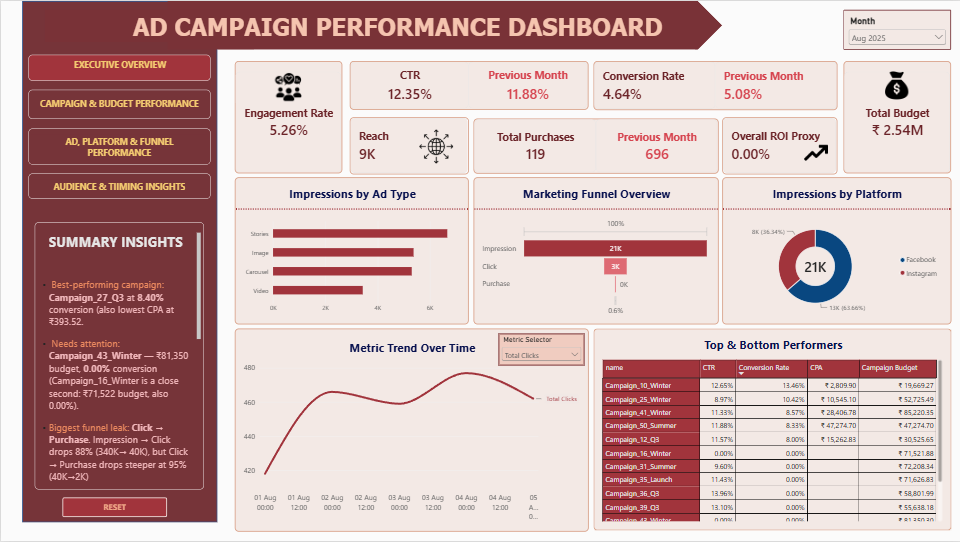

The page's visual inventory and layout, read from the dashboard file:
{"tool":"powerbi","page":{"name":"Executive Overview","canvas":[1920,1080],"ordinal":0},"visuals":[{"type":"funnel","title":"Marketing Funnel Overview","fields":{"Category":["AdEvents.event_type"],"Y":["Measures Table.Total Events"]},"box":[944,352,490,294],"z":0},{"type":"cardVisual","fields":{"Data":["Measures Table.Total Budget All Campaigns"]},"box":[1685,120,215,225],"z":1000},{"type":"cardVisual","fields":{"Data":["Measures Table.Reach"]},"box":[698,232,238,114],"z":2000},{"type":"cardVisual","fields":{"Data":["Measures Table.CTR","Measures Table.CTR PM"]},"box":[697.5,120,477.5,97.5],"z":3000},{"type":"cardVisual","fields":{"Data":["Measures Table.Conversion Rate","Measures Table.Conversion Rate PM"]},"box":[1184,120,488,98],"z":4000},{"type":"cardVisual","fields":{"Data":["Measures Table.Overall ROI Proxy"]},"box":[1442,232,230,114],"z":5000},{"type":"cardVisual","fields":{"Data":["Measures Table.Total Purchases","Measures Table.Total Purchases PM"]},"box":[945,235,490,110],"z":6000},{"type":"cardVisual","fields":{"Data":["Measures Table.Engagement Rate"]},"box":[467.5,120,215,225],"z":7000},{"type":"donutChart","title":"Impressions by Platform","fields":{"Category":["Ads.ad_platform"],"Y":["Measures Table.Total Impressions"]},"box":[1442,352,458,294],"z":8000},{"type":"tableEx","title":"Top & Bottom Performers","fields":{"Values":["Campaigns.name","Measures Table.CTR","Measures Table.Conversion Rate","Measures Table.CPA","Measures Table.Campaign Budget"]},"box":[1184,654,716,404],"z":9000},{"type":"shape","box":[42,0,390,1042.5],"z":10000},{"type":"shape","box":[332,0,1110,97.5],"z":11000},{"type":"image","box":[507.5,140,135,62.5],"z":12000},{"type":"image","box":[802,254,136,72],"z":13000},{"type":"image","box":[1745,140,92.5,57.5],"z":14000},{"type":"image","box":[1590,280,80,47.5],"z":15000},{"type":"textbox","box":[88,18,1236,64],"z":16000},{"type":"textbox","box":[68,442,338,534],"z":17000},{"type":"actionButton","title":"EXECUTIVE OVERVIEW","box":[56,108,364,52],"z":18000},{"type":"actionButton","title":"CAMPAIGN & BUDGET PERFORMANCE","box":[56,178,364,58],"z":19000},{"type":"actionButton","title":"AD, PLATFORM & FUNNEL PERFORMANCE","box":[56,254,364,72],"z":20000},{"type":"actionButton","title":"AUDIENCE & TIIMING INSIGHTS","box":[56,346,364,50],"z":21000},{"type":"lineChart","title":"Metric Trend Over Time","fields":{"Category":["DateTable.Date"],"Y":["Measures Table.Total Shares"]},"box":[468,654,708,406],"z":22000},{"type":"slicer","fields":{"Values":["Metric Selector.Metric Selector"]},"box":[994,664,172,64],"z":23000},{"type":"slicer","fields":{"Values":["DateTable.Month"]},"box":[1685,17.5,215,80],"z":24000},{"type":"clusteredBarChart","title":"Impressions by Ad Type","fields":{"Category":["Ads.ad_type"],"Y":["Measures Table.Total Impressions"]},"box":[468,352,468,294],"z":25000},{"type":"actionButton","box":[122,992,210,40],"z":26000}]}

Visuals, with their boxes in screenshot pixels (x1, y1, x2, y2), scaled from the page's 1920x1080 canvas onto the 960x542 screenshot:
"Marketing Funnel Overview" funnel: box=[472, 177, 717, 324]
cardVisual - Measures Table.Total Budget All Campaigns: box=[842, 60, 950, 173]
cardVisual - Measures Table.Reach: box=[349, 116, 468, 174]
cardVisual - Measures Table.CTR x Measures Table.CTR PM: box=[349, 60, 588, 109]
cardVisual - Measures Table.Conversion Rate x Measures Table.Conversion Rate PM: box=[592, 60, 836, 109]
cardVisual - Measures Table.Overall ROI Proxy: box=[721, 116, 836, 174]
cardVisual - Measures Table.Total Purchases x Measures Table.Total Purchases PM: box=[472, 118, 718, 173]
cardVisual - Measures Table.Engagement Rate: box=[234, 60, 341, 173]
"Impressions by Platform" donutChart: box=[721, 177, 950, 324]
"Top & Bottom Performers" tableEx: box=[592, 328, 950, 531]
shape: box=[21, 0, 216, 523]
shape: box=[166, 0, 721, 49]
image: box=[254, 70, 321, 102]
image: box=[401, 127, 469, 164]
image: box=[872, 70, 919, 99]
image: box=[795, 141, 835, 164]
textbox: box=[44, 9, 662, 41]
textbox: box=[34, 222, 203, 490]
"EXECUTIVE OVERVIEW" actionButton: box=[28, 54, 210, 80]
"CAMPAIGN & BUDGET PERFORMANCE" actionButton: box=[28, 89, 210, 118]
"AD, PLATFORM & FUNNEL PERFORMANCE" actionButton: box=[28, 127, 210, 164]
"AUDIENCE & TIIMING INSIGHTS" actionButton: box=[28, 174, 210, 199]
"Metric Trend Over Time" lineChart: box=[234, 328, 588, 532]
slicer - Metric Selector.Metric Selector: box=[497, 333, 583, 365]
slicer - DateTable.Month: box=[842, 9, 950, 49]
"Impressions by Ad Type" clusteredBarChart: box=[234, 177, 468, 324]
actionButton: box=[61, 498, 166, 518]
